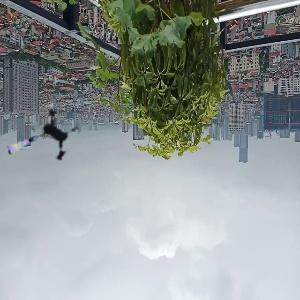drone: (9, 104, 89, 184)
